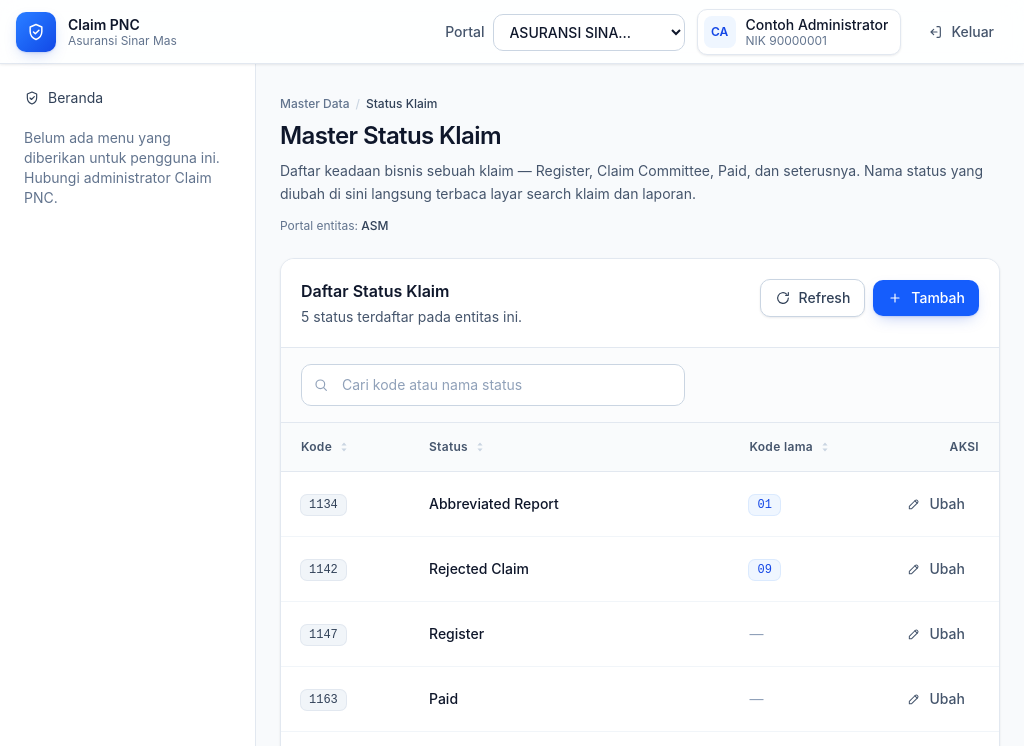
Scenario: tambah › menolak status kosong tanpa memanggil server
Check: the text "Paid" is shown, box [429,690,458,706]
Click the button "Tambah": (926, 298) [873,280,979,316]
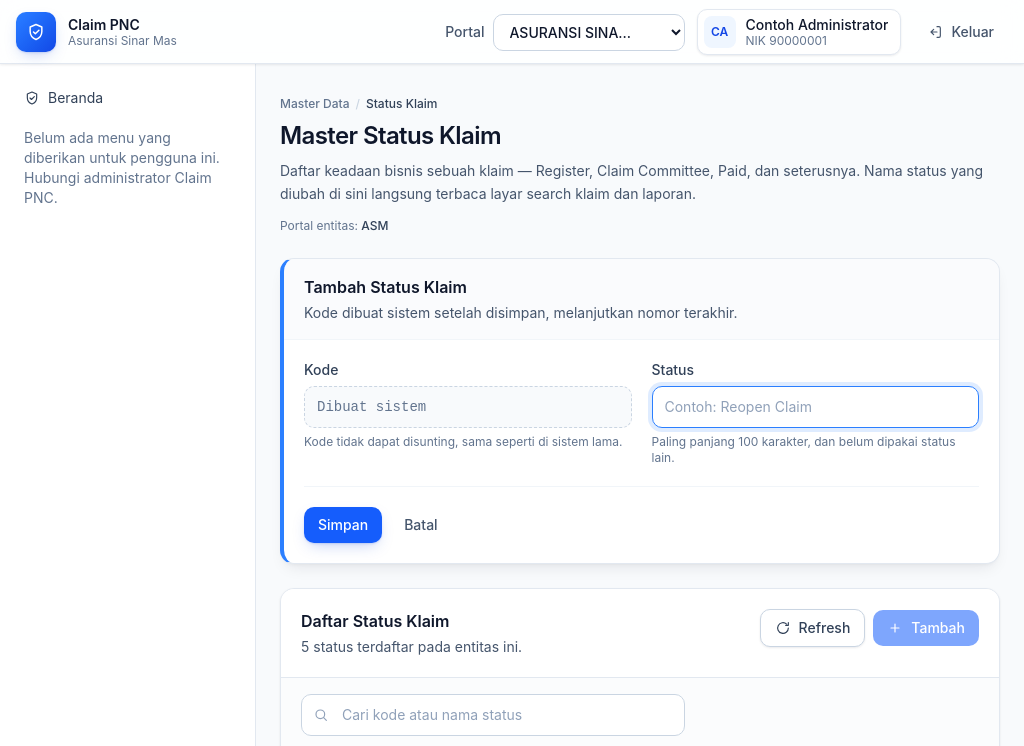
Click the button "Simpan": (343, 524) [304,506,382,542]
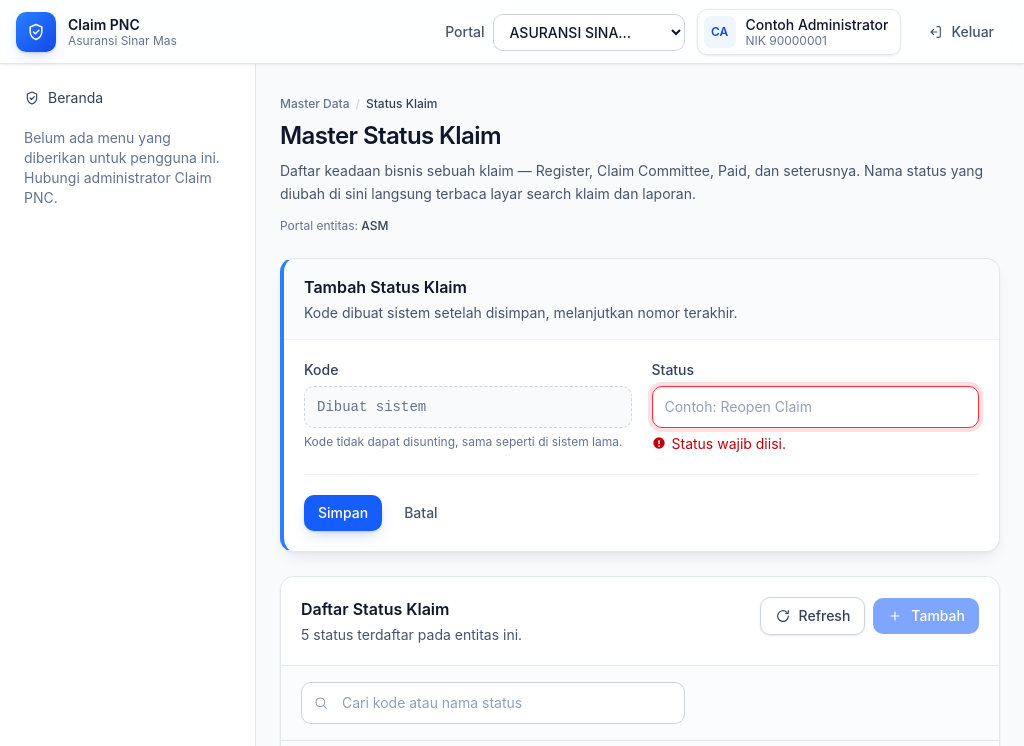
Check: the text "Status wajib diisi." is shown, box [672,434,786,454]
